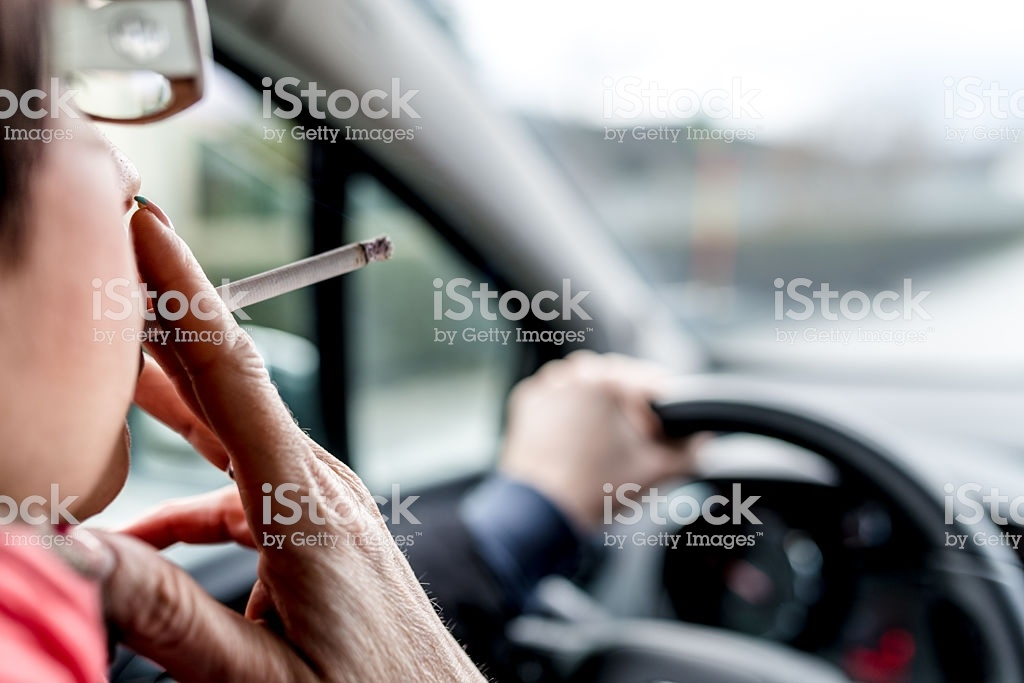sigaretta: (161, 236, 368, 328)
